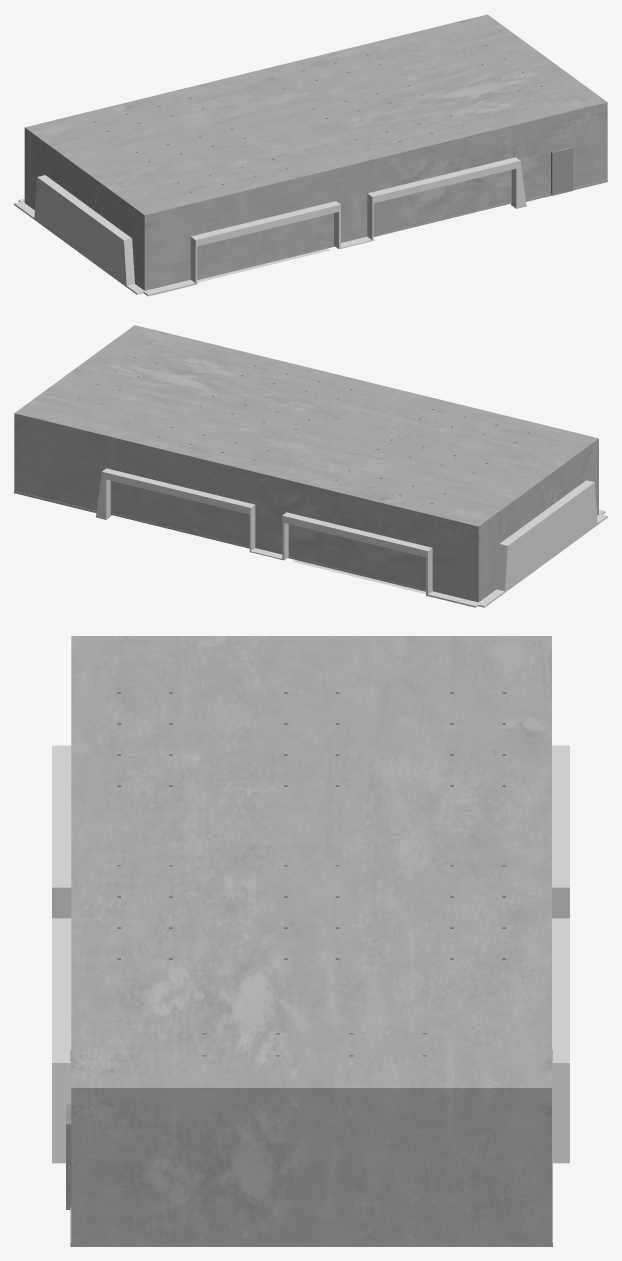
3 views of the same model, one above another, from view 1: azimuth 30°, elevation 25°; view 2: azimuth 150°, elevation 25°; view 3: azimuth 270°, elevation 25° (orthographic). The views are drawn at different scales.
Visible parts, largest first — view 1: Walls, Cube.003, Cube.014, Cube.012, Cube.005, Plane.009; view 2: Walls, Cube.014, Cube.004, Cube.005, Plane.010; view 3: Walls, Cube.003, Cube.004, Cube.006.
Part boxes in pixels (<box>): Walls: <box>24,14,607,290</box>; Cube.003: <box>143,157,526,296</box>; Cube.014: <box>14,175,143,294</box>; Cube.012: <box>551,147,572,195</box>; Cube.005: <box>197,202,511,279</box>; Plane.009: <box>197,248,329,282</box>; Walls: <box>14,325,598,602</box>; Cube.014: <box>478,480,607,607</box>; Cube.004: <box>96,468,480,607</box>; Cube.005: <box>110,513,425,591</box>; Plane.010: <box>293,560,425,594</box>; Walls: <box>71,636,551,1242</box>; Cube.003: <box>52,745,71,1163</box>; Cube.004: <box>552,745,569,1163</box>; Cube.006: <box>70,1158,552,1246</box>.
Bounding box in the file's own units: 36.23 × 6.56 × 17.25.
22 materials, 2 textured.
